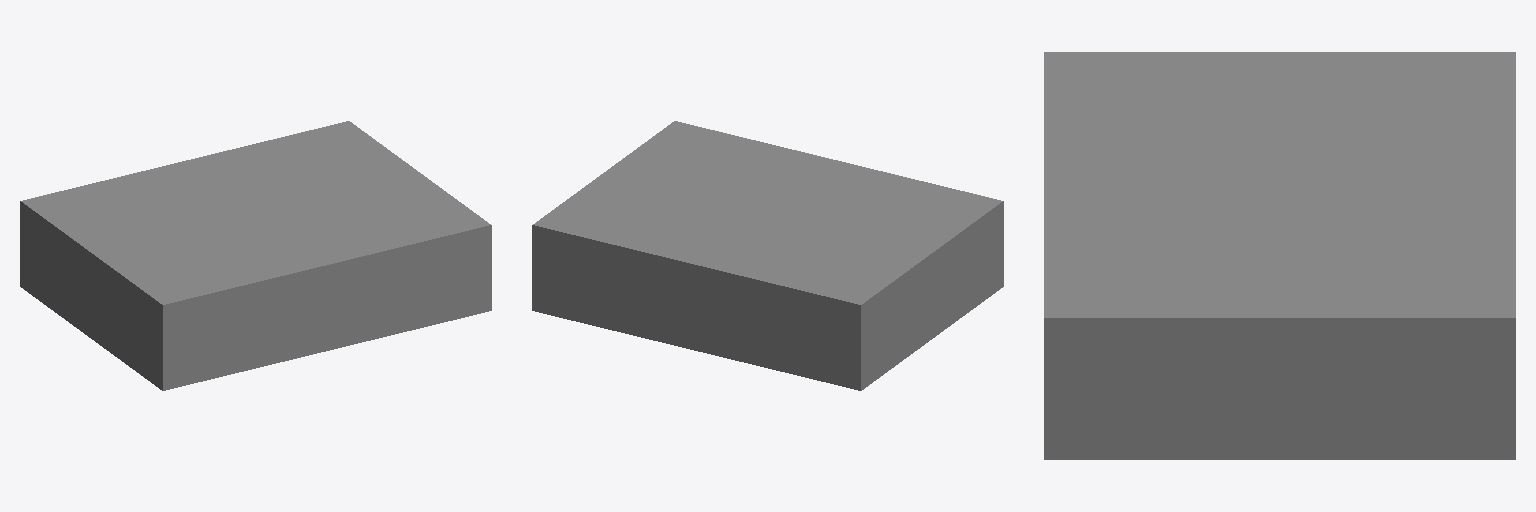
URDF robot description (motor_bot):
<?xml version="1.0"?>
<robot name="motor_bot" xmlns:xacro="http://www.ros.org/wiki/xacro">
  <link name="base_link">
    <inertial>
      <origin xyz="0 0 0" rpy="0 0 0"/>
      <mass value="1.0"/>
      <inertia ixx="0.01" ixy="0.0" ixz="0.0" iyy="0.01" iyz="0.0" izz="0.01"/>
    </inertial>
    <visual>
      <origin xyz="0 0 0" rpy="0 0 0"/>
      <geometry>
        <box size="0.4 0.3 0.1"/>
      </geometry>
      <material name="gray">
        <color rgba="0.6 0.6 0.6 1.0"/>
      </material>
    </visual>
    <collision>
      <origin xyz="0 0 0" rpy="0 0 0"/>
      <geometry>
        <box size="0.4 0.3 0.1"/>
      </geometry>
    </collision>
  </link>
</robot>

--- Render facts (derived) ---
3 views of the same robot in one strip: view 1: azimuth 30°, elevation 25°; view 2: azimuth 150°, elevation 25°; view 3: azimuth 270°, elevation 25° (orthographic).
Robot: motor_bot — 1 links, 0 joints (none); root link base_link; default pose: all joints at 0.
Links seen in each view (by area): view 1: base_link; view 2: base_link; view 3: base_link.
Boxes of the visible links, box(x1,y1,x2,y2) form: base_link: box(20, 121, 491, 390); base_link: box(532, 121, 1003, 390); base_link: box(1044, 52, 1515, 459).
Size in the robot's own frame: 0.4 by 0.3 by 0.1 metres.
Geometry: primitives only (box / cylinder / sphere), no mesh files.
